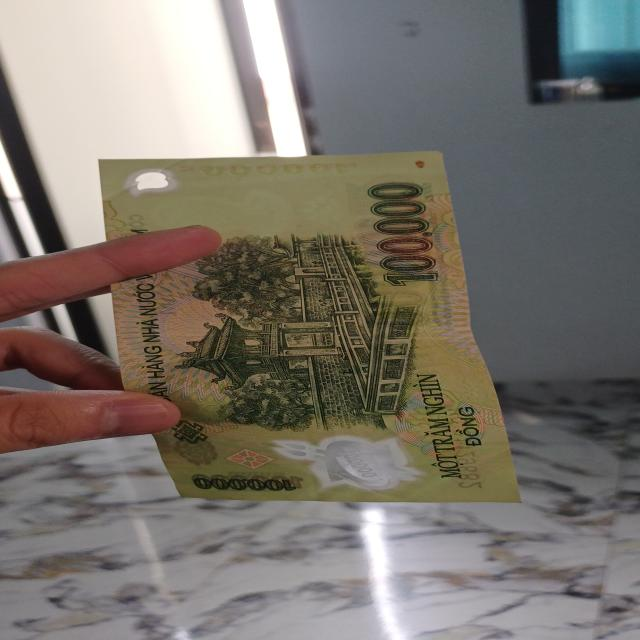100 000 VND: (94, 148, 545, 506)
